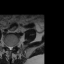CCS_severe_stenosis: (9, 44, 11, 52)
LFS_stenosis: (13, 42, 15, 48)
LLS_normal: (11, 44, 13, 51)
RFS_normal: (6, 42, 8, 49)
RLS_normal: (8, 43, 9, 51)
